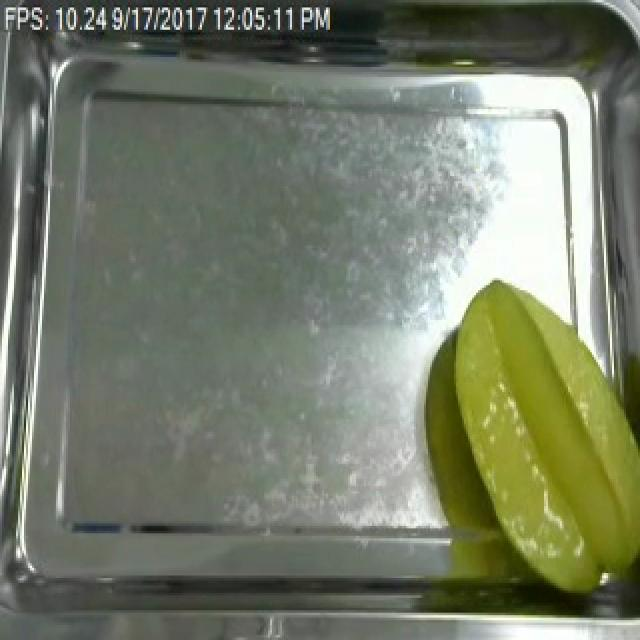fruit: (436, 270, 640, 608)
